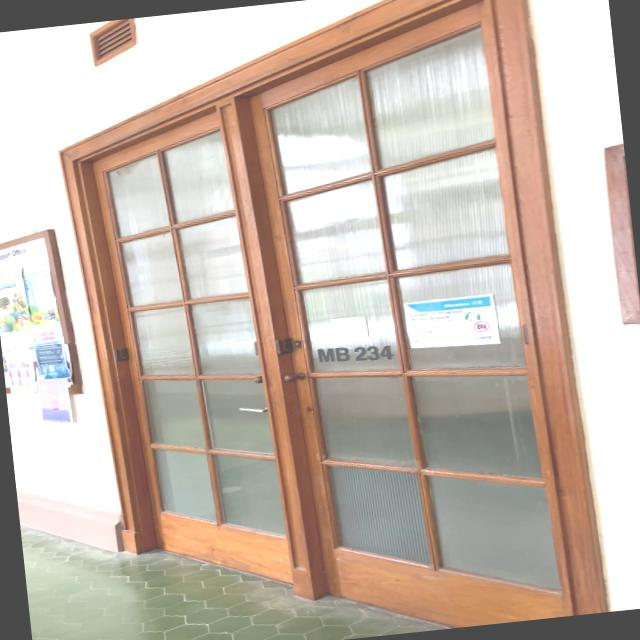room234Window: (312, 338, 399, 371)
